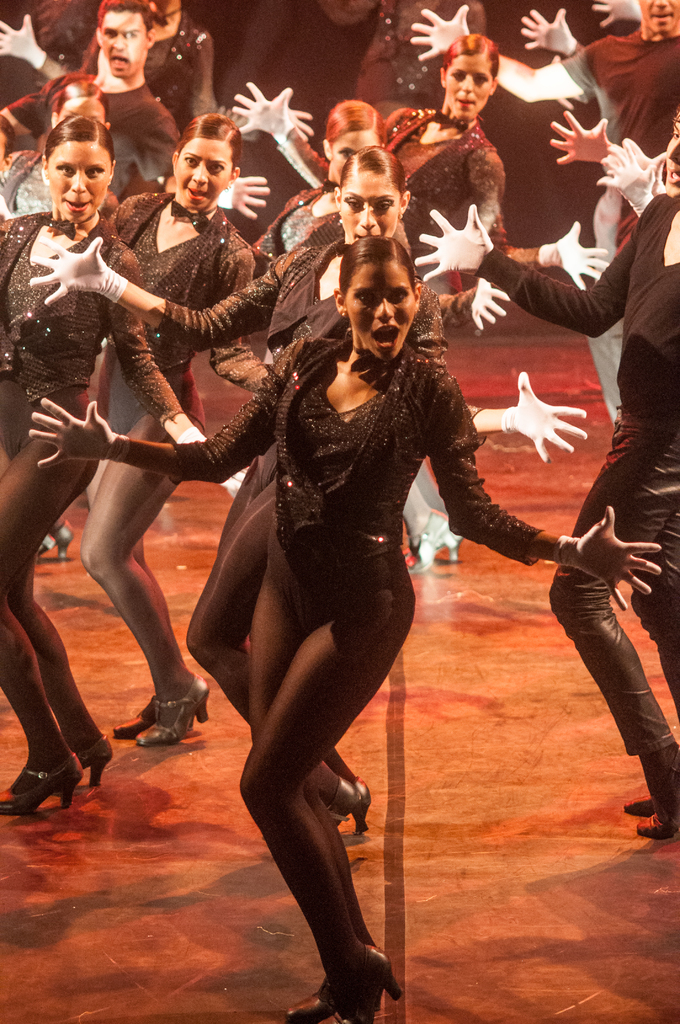Human_hand: (551, 506, 659, 609), (505, 372, 587, 464), (30, 400, 131, 468), (31, 236, 128, 305), (415, 203, 495, 280), (540, 222, 608, 289), (599, 146, 659, 218), (603, 139, 668, 196), (552, 109, 614, 165), (233, 81, 294, 133), (412, 5, 469, 58), (521, 9, 575, 57), (0, 14, 47, 66), (470, 274, 513, 328), (269, 92, 314, 142), (220, 177, 271, 219), (593, 0, 641, 26), (222, 466, 245, 497)
